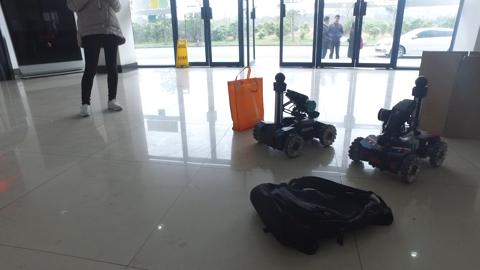bag: (246, 179, 394, 249), (226, 68, 264, 132)
box: (420, 50, 478, 132)
chariot: (348, 75, 446, 184), (261, 74, 337, 158)
